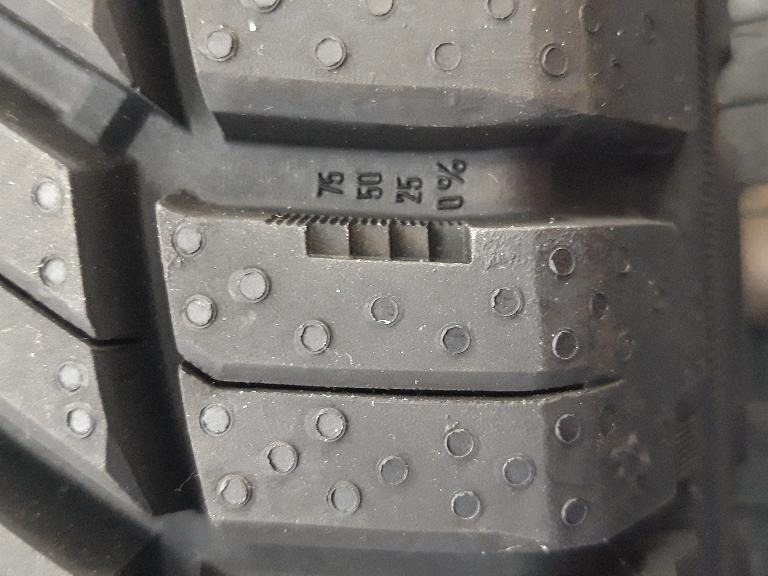temoin:100: (256, 202, 484, 276)
